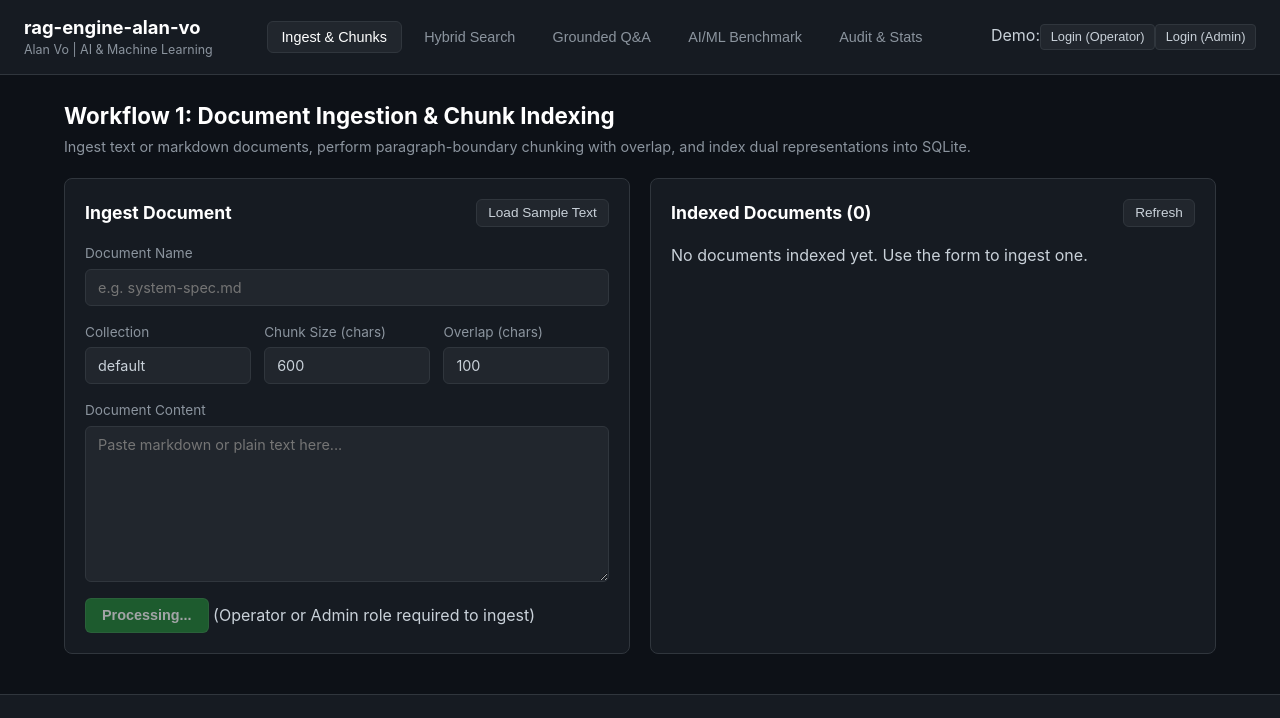
Scenario: App Navigation and Workflows › switches to Grounded Q&A when tab is clicked
This screenshot has width=1280, height=718.
Step 1. Click the button "Grounded Q&A" → [602, 37], box [538,21,666,53]
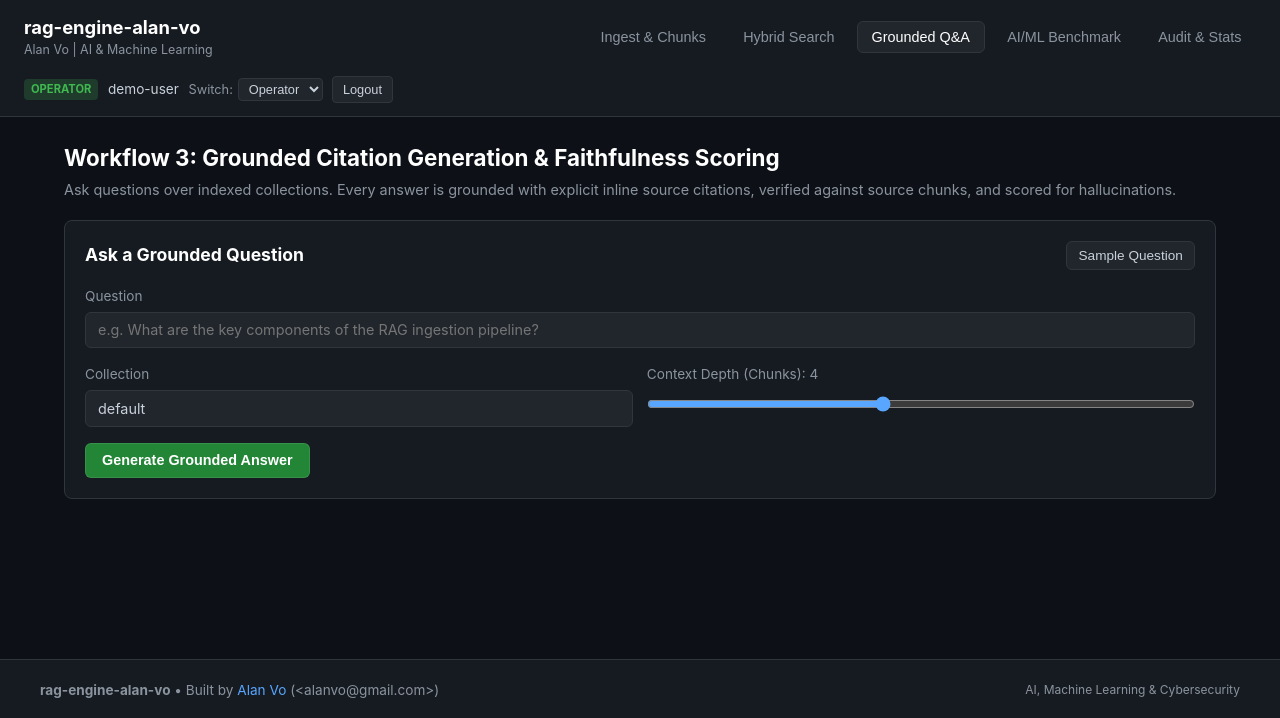
Now the heading "Workflow 3: Grounded Citation Generation & Faithfulness Scoring" is shown, box [64,144,780,171]
